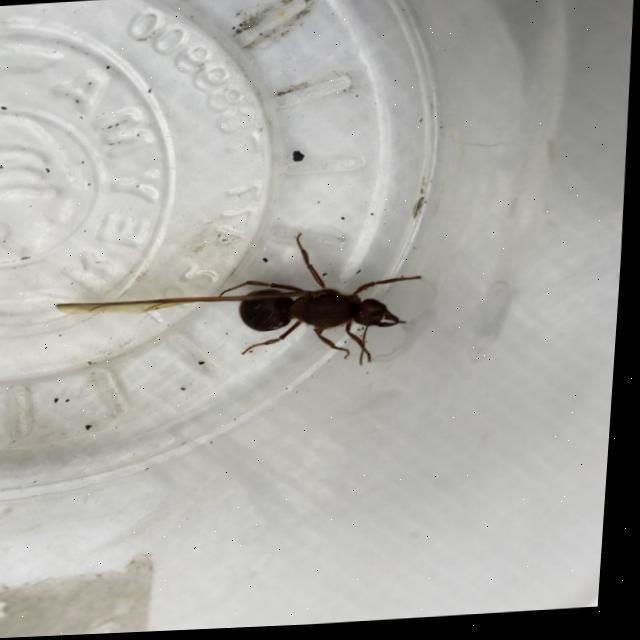Alive-Female-Alate: (55, 228, 431, 386)
